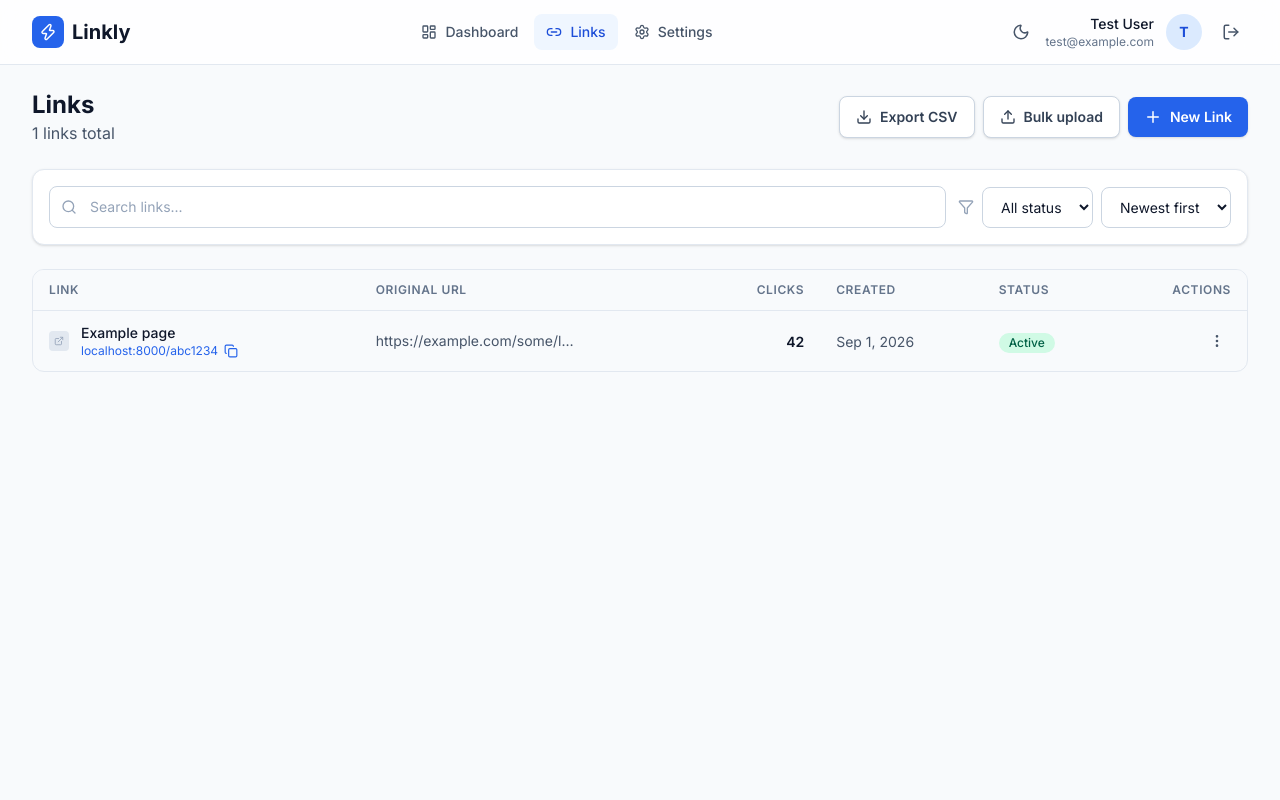
Test: protected routes › signing out lands on the home page
Click the button named "logout" at {"x": 1231, "y": 32}, box [1214,15,1248,49]
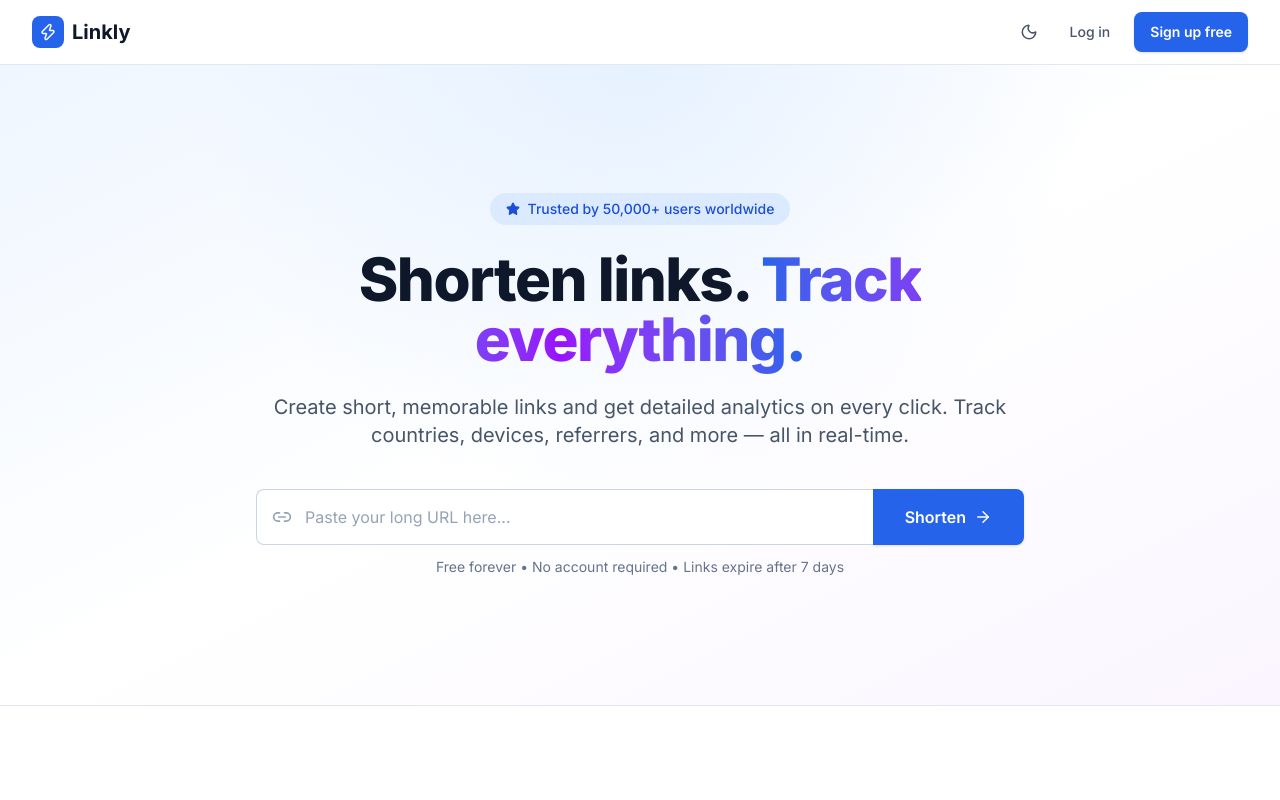
Result: the field with placeholder "Paste your long URL here..." is shown at [256,489,873,545]
